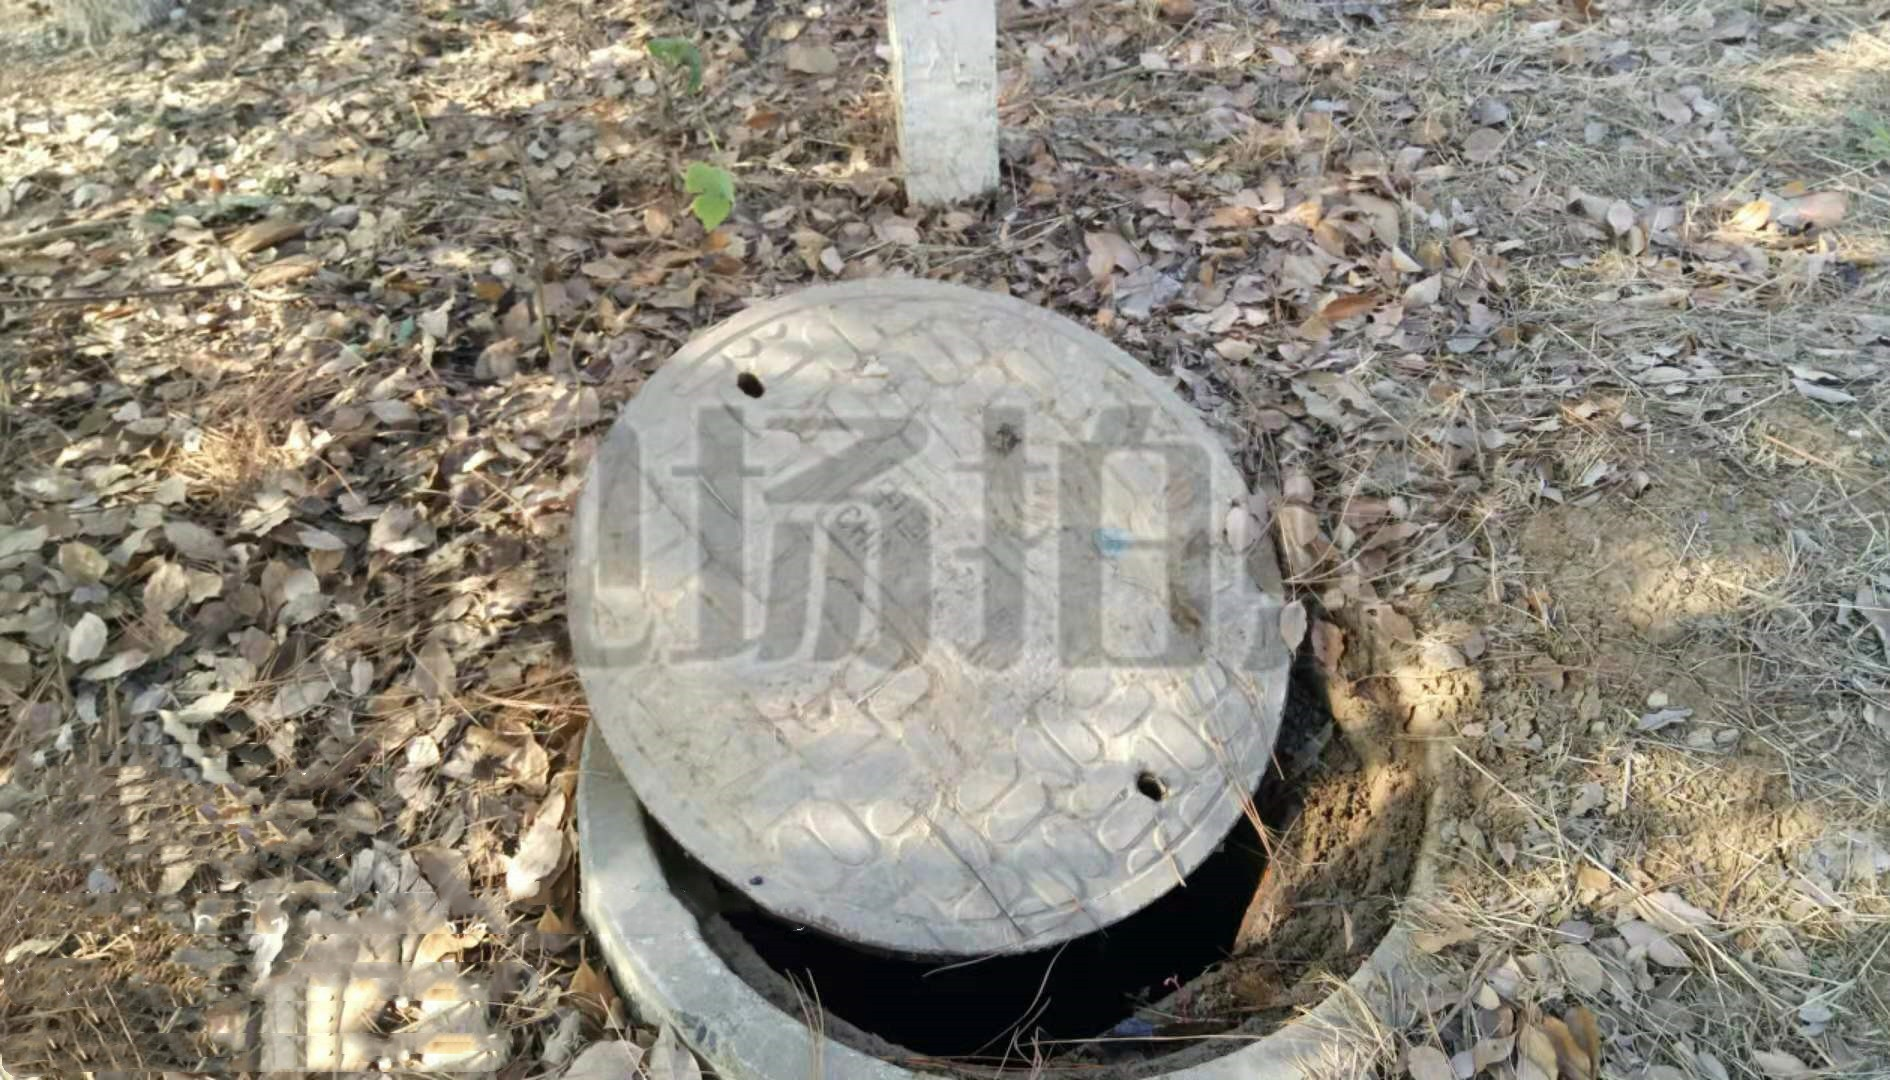uncovered: (571, 274, 1485, 1080)
